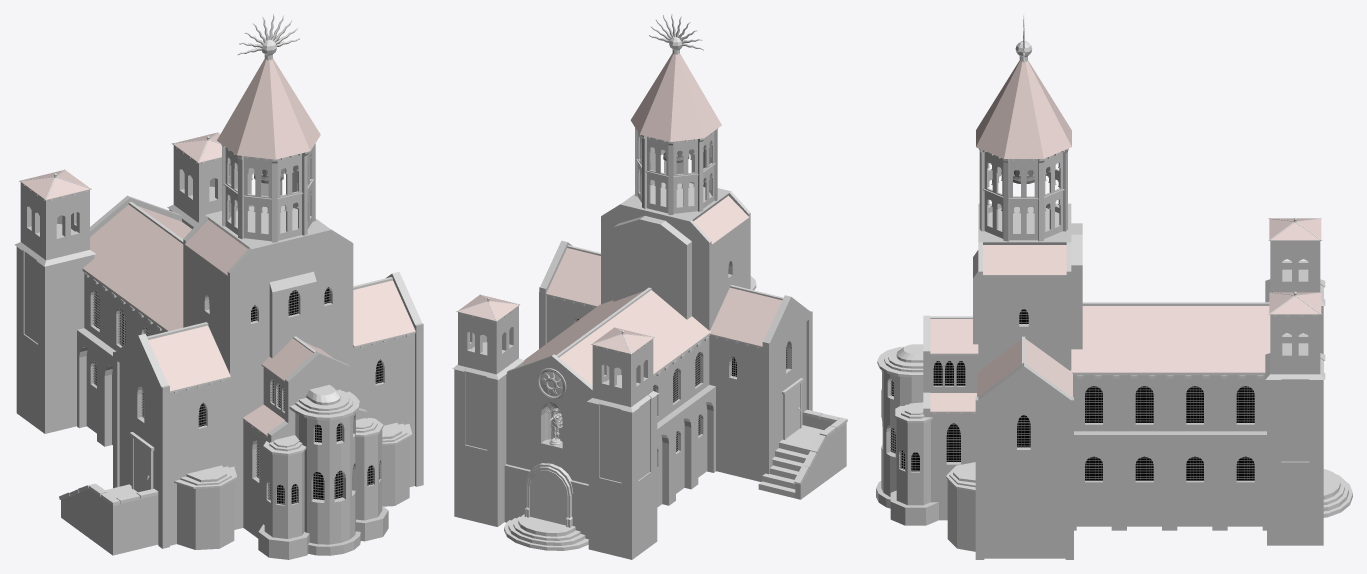
The model's file is church.gltf.
3 renders of one model, left to right at view 1: azimuth 30°, elevation 25°; view 2: azimuth 150°, elevation 25°; view 3: azimuth 270°, elevation 25°, orthographic. The views are drawn at different scales.
Parts seen in each view (by area): view 1: StoneBrickWalls, CopperRoof, StoneRoof, WindowBars, Windows, StoneBeams, SideDoor, SideStairs; view 2: StoneBrickWalls, CopperRoof, FrontDoor, SideStairs, StoneBeams, SideDoor, SunSymbol, WindowBars; view 3: StoneBrickWalls, CopperRoof, Windows, WindowBars, StoneRoof, StoneBeams, FrontDoor.
Boxes of the visible parts, box(x1,y1,x2,y2) form: StoneBrickWalls: box(14, 143, 423, 559); CopperRoof: box(19, 14, 415, 436); StoneRoof: box(174, 384, 412, 488); WindowBars: box(92, 287, 383, 504); Windows: box(95, 287, 382, 504); StoneBeams: box(22, 145, 409, 436); SideDoor: box(129, 432, 154, 492); SideStairs: box(59, 483, 158, 505); StoneBrickWalls: box(452, 128, 846, 559); CopperRoof: box(456, 14, 782, 385); FrontDoor: box(504, 463, 588, 550); SideStairs: box(758, 409, 847, 498); StoneBeams: box(460, 126, 783, 375); SideDoor: box(782, 378, 803, 439); SunSymbol: box(537, 368, 566, 398); WindowBars: box(576, 269, 788, 451); StoneBrickWalls: box(876, 148, 1325, 559); CopperRoof: box(930, 14, 1321, 412); Windows: box(891, 309, 1254, 480); WindowBars: box(890, 309, 1254, 480); StoneRoof: box(877, 344, 975, 491); StoneBeams: box(930, 150, 1316, 413); FrontDoor: box(1323, 469, 1352, 517).
Size of the model in its own units: 12.41 by 18.77 by 16.92.
